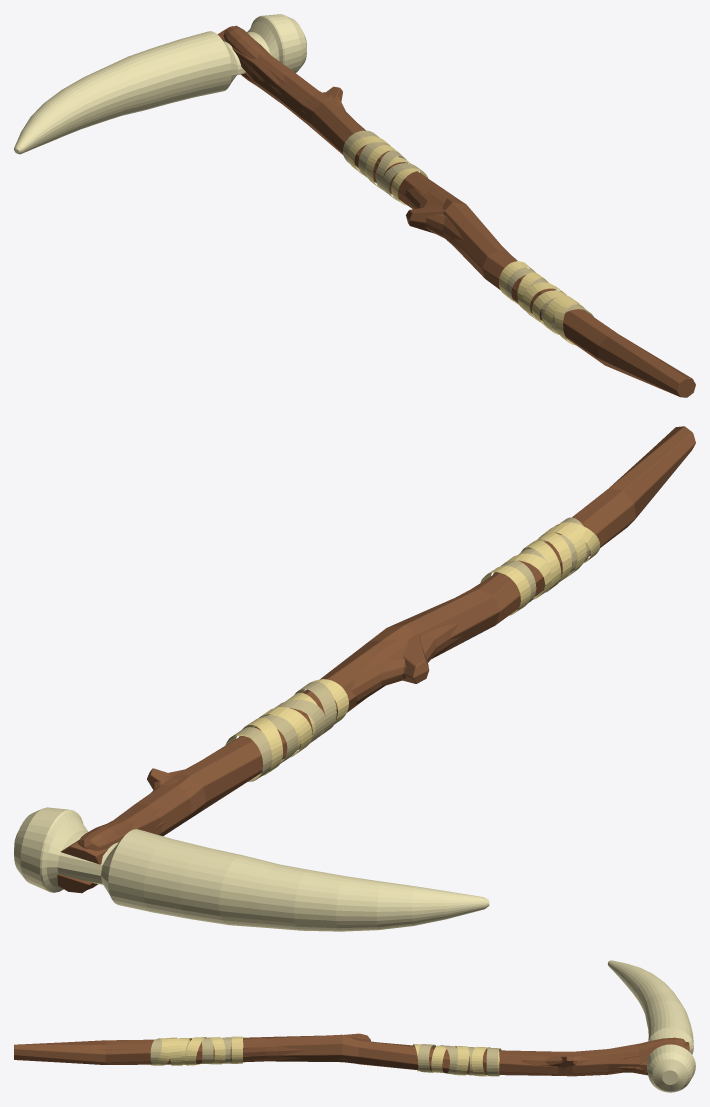
The model's file is TuskPickaxe.fbx.
The picture shows the model from 3 angles, top to bottom: view 1: azimuth 30°, elevation 25°; view 2: azimuth 150°, elevation 25°; view 3: azimuth 270°, elevation 25°; orthographic projection. The views are drawn at different scales.
Visible parts, largest first — view 1: Cylinder.008, Cylinder, Cylinder.002, Cylinder.001, Cylinder.006, Cylinder.004, Cylinder.007, Cylinder.003; view 2: Cylinder.008, Cylinder, Cylinder.002, Cylinder.006, Cylinder.001, Cylinder.007, Cylinder.004, Cylinder.005, Cylinder.003; view 3: Cylinder, Cylinder.008, Cylinder.002, Cylinder.001, Cylinder.006, Cylinder.003, Cylinder.007, Cylinder.004, Cylinder.005.
Boxes of the visible parts, bbox=[...] form: Cylinder.008: bbox=[14, 14, 306, 154]; Cylinder: bbox=[217, 25, 695, 397]; Cylinder.002: bbox=[223, 26, 548, 295]; Cylinder.001: bbox=[499, 261, 586, 345]; Cylinder.006: bbox=[343, 130, 427, 201]; Cylinder.004: bbox=[522, 282, 579, 334]; Cylinder.007: bbox=[347, 136, 401, 189]; Cylinder.003: bbox=[506, 267, 593, 339]; Cylinder.008: bbox=[14, 807, 489, 931]; Cylinder: bbox=[57, 426, 695, 893]; Cylinder.002: bbox=[77, 542, 549, 889]; Cylinder.006: bbox=[226, 681, 336, 781]; Cylinder.001: bbox=[480, 522, 600, 615]; Cylinder.007: bbox=[239, 707, 312, 775]; Cylinder.004: bbox=[520, 525, 586, 592]; Cylinder.005: bbox=[225, 679, 348, 779]; Cylinder.003: bbox=[493, 517, 590, 609]; Cylinder: bbox=[14, 1033, 689, 1076]; Cylinder.008: bbox=[608, 960, 695, 1092]; Cylinder.002: bbox=[99, 1037, 686, 1075]; Cylinder.001: bbox=[150, 1036, 243, 1065]; Cylinder.006: bbox=[418, 1044, 501, 1076]; Cylinder.003: bbox=[150, 1037, 231, 1064]; Cylinder.007: bbox=[453, 1046, 490, 1076]; Cylinder.004: bbox=[166, 1037, 206, 1065]; Cylinder.005: bbox=[413, 1044, 499, 1075].
Bounding box in the file's own units: 115 × 20.28 × 285.
